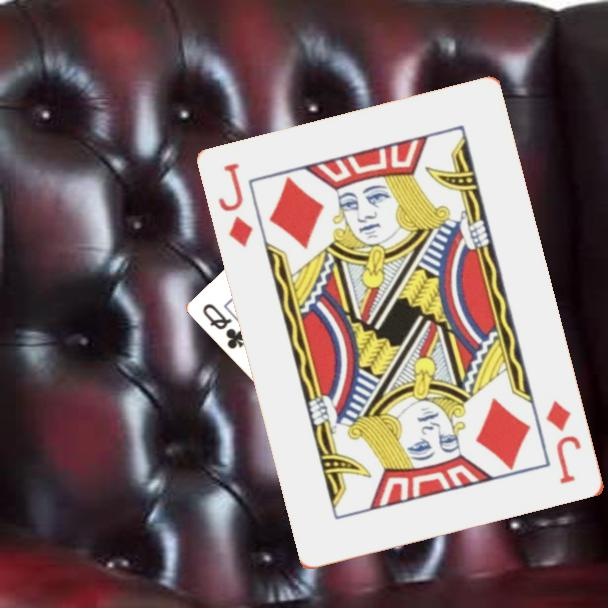c12: (199, 300, 250, 352)
d11: (543, 397, 585, 488), (215, 160, 257, 250)
